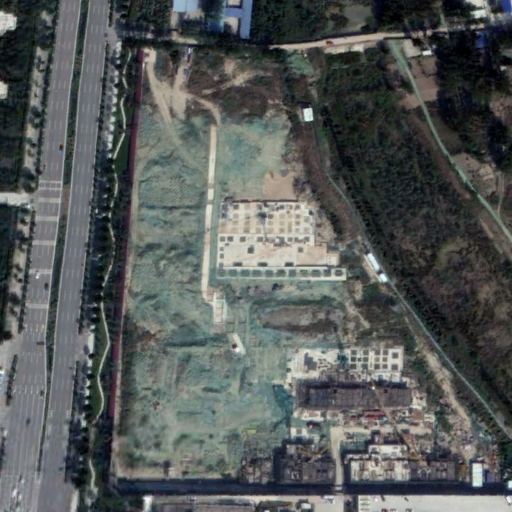cw: (115, 106, 362, 482)
